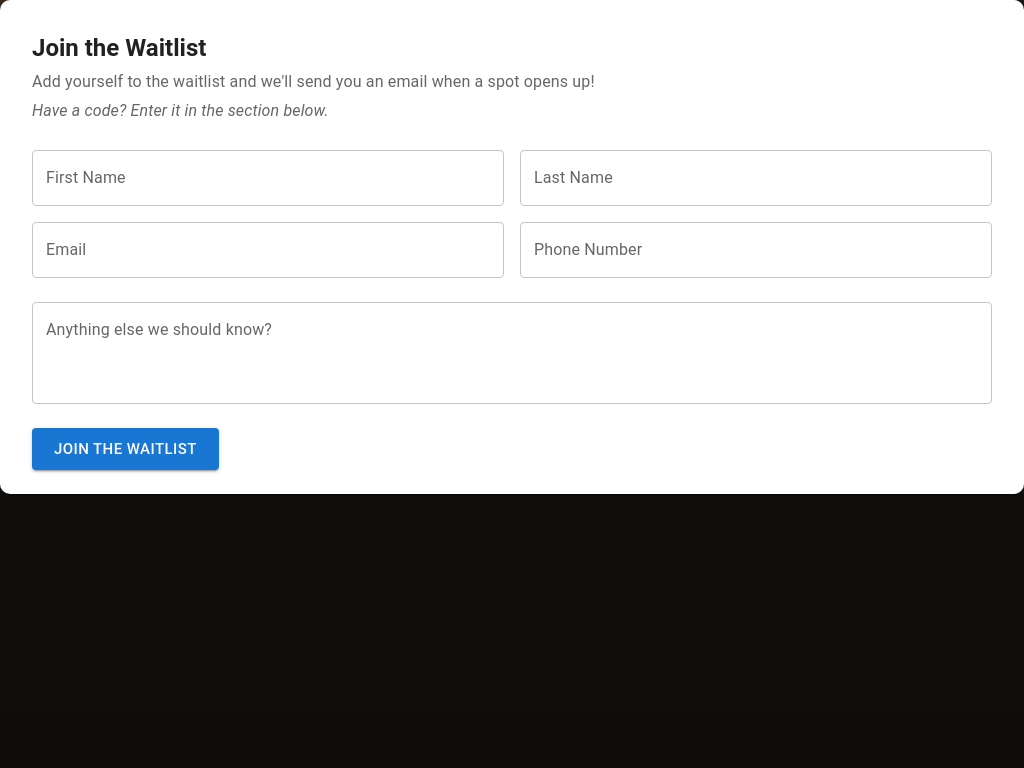
WaitlistForm › error handling › shows inline styled errors instead of the browser validation tooltip for missing required fields
What coordinates should you click on to do the following:
click the button "Join the Waitlist"
I would click on:
 (125, 449)
Its box is [32,428,219,470].
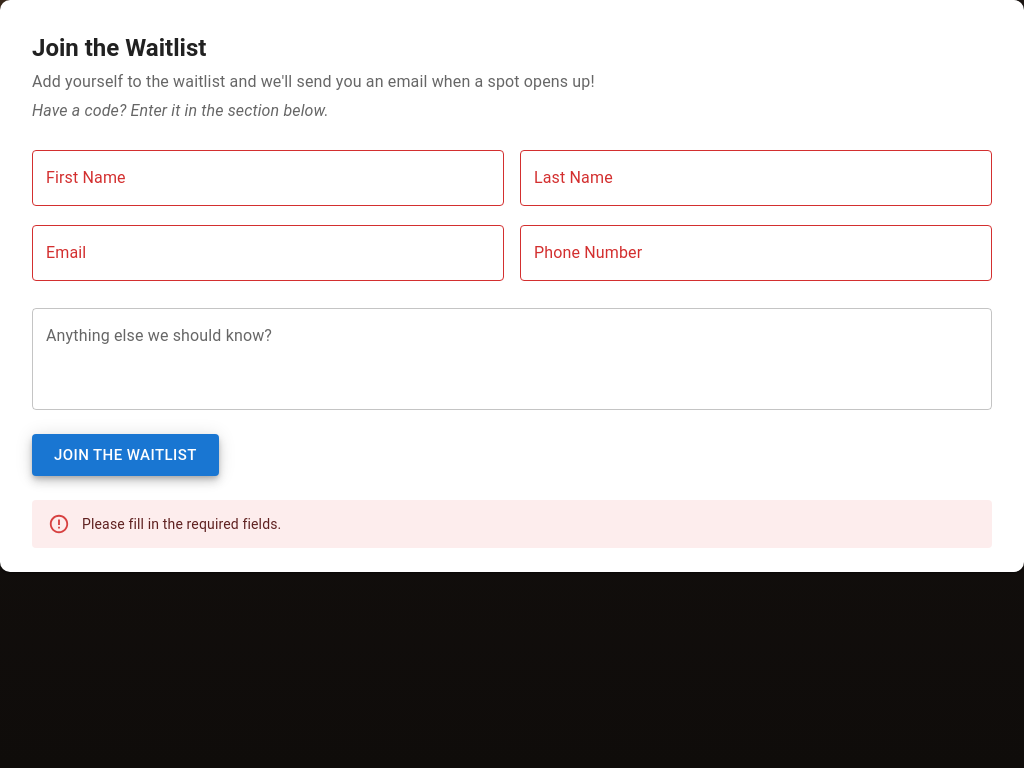
Expected: the message shows "Please fill in the required fields", [82,516,281,532]
